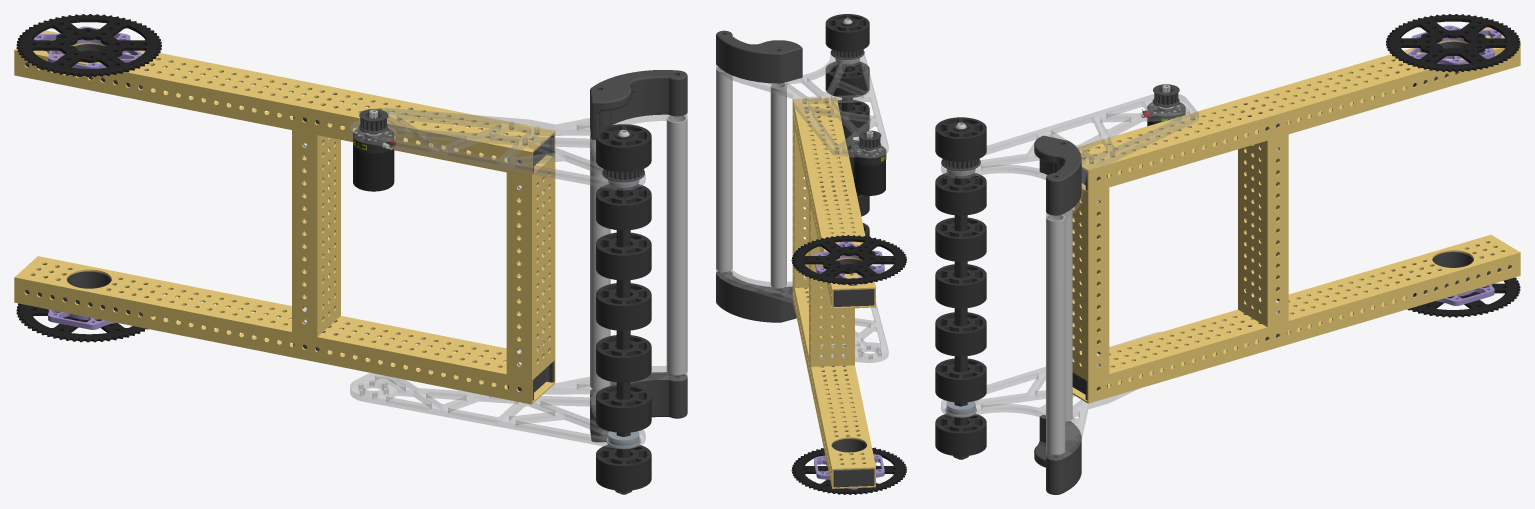
3 views of the same model, side by side, from view 1: azimuth 30°, elevation 25°; view 2: azimuth 150°, elevation 25°; view 3: azimuth 270°, elevation 25° (orthographic). The views are drawn at different scales.
Parts seen in each view (by area): view 1: Tube 2"x1"x20.5" (×2), Tube 2"x1"x8" (×2), REAL GRIPPER NATE (×2), 2.000in x 1.000in Straight Flex Wheel (0.500in Hex) Overmold (×7), Dead Axle Tube - 10in (REV-21-2510) (×2), 64T #25 Plate Sprocket MAXSpline (REV-21-1972) (×2), Part 9, Minion, Part 10, Shaft, Sprocket Spacer, Anti-Crush Block Sprocket; view 2: Tube 2"x1"x20.5" (×2), REAL GRIPPER NATE (×2), Dead Axle Tube - 10in (REV-21-2510) (×2), 64T #25 Plate Sprocket MAXSpline (REV-21-1972) (×2), Tube 2"x1"x8" (×2), 2.000in x 1.000in Straight Flex Wheel (0.500in Hex) Overmold (×4), Part 9, Part 10, Anti-Crush Block Sprocket (×2), Minion, Sprocket Spacer (×2), Shaft (+2 smaller); view 3: Tube 2"x1"x20.5" (×2), Tube 2"x1"x8" (×2), 2.000in x 1.000in Straight Flex Wheel (0.500in Hex) Overmold (×7), REAL GRIPPER NATE (×2), 64T #25 Plate Sprocket MAXSpline (REV-21-1972) (×2), Dead Axle Tube - 10in (REV-21-2510) (×2), Part 9, Part 10, Shaft, Sprocket Spacer, Anti-Crush Block Sprocket, Minion.
Part boxes in pixels (x1,y1,x2,y2): Tube 2"x1"x20.5" (×2): [14, 30, 555, 404]; Tube 2"x1"x8" (×2): [292, 123, 555, 379]; REAL GRIPPER NATE (×2): [350, 108, 687, 448]; 2.000in x 1.000in Straight Flex Wheel (0.500in Hex) Overmold (×7): [596, 124, 651, 490]; Dead Axle Tube - 10in (REV-21-2510) (×2): [590, 115, 687, 389]; 64T #25 Plate Sprocket MAXSpline (REV-21-1972) (×2): [16, 14, 161, 342]; Part 9: [590, 70, 687, 139]; Minion: [353, 109, 395, 191]; Part 10: [590, 372, 687, 442]; Shaft: [615, 130, 632, 494]; Sprocket Spacer: [33, 26, 142, 68]; Anti-Crush Block Sprocket: [25, 264, 153, 316]; Tube 2"x1"x20.5" (×2): [792, 97, 875, 488]; REAL GRIPPER NATE (×2): [716, 54, 888, 362]; Dead Axle Tube - 10in (REV-21-2510) (×2): [716, 66, 786, 288]; 64T #25 Plate Sprocket MAXSpline (REV-21-1972) (×2): [791, 235, 906, 494]; Tube 2"x1"x8" (×2): [792, 119, 854, 366]; 2.000in x 1.000in Straight Flex Wheel (0.500in Hex) Overmold (×4): [825, 14, 869, 216]; Part 9: [716, 30, 802, 83]; Part 10: [716, 271, 796, 322]; Anti-Crush Block Sprocket (×2): [831, 259, 874, 487]; Minion: [853, 131, 886, 195]; Sprocket Spacer (×2): [814, 241, 884, 489]; Shaft: [840, 18, 854, 151]; Tube 2"x1"x20.5" (×2): [1072, 27, 1520, 403]; Tube 2"x1"x8" (×2): [1072, 134, 1288, 380]; 2.000in x 1.000in Straight Flex Wheel (0.500in Hex) Overmold (×7): [935, 117, 986, 456]; REAL GRIPPER NATE (×2): [941, 94, 1198, 460]; 64T #25 Plate Sprocket MAXSpline (REV-21-1972) (×2): [1386, 14, 1520, 317]; Dead Axle Tube - 10in (REV-21-2510) (×2): [1046, 208, 1072, 454]; Part 9: [1034, 135, 1081, 215]; Part 10: [1034, 415, 1081, 494]; Shaft: [953, 122, 968, 459]; Sprocket Spacer: [1406, 25, 1501, 64]; Anti-Crush Block Sprocket: [1392, 242, 1511, 296]; Minion: [1141, 85, 1185, 126].
Bounding box in the file's own units: 0.4686 × 0.3645 × 0.5774.
